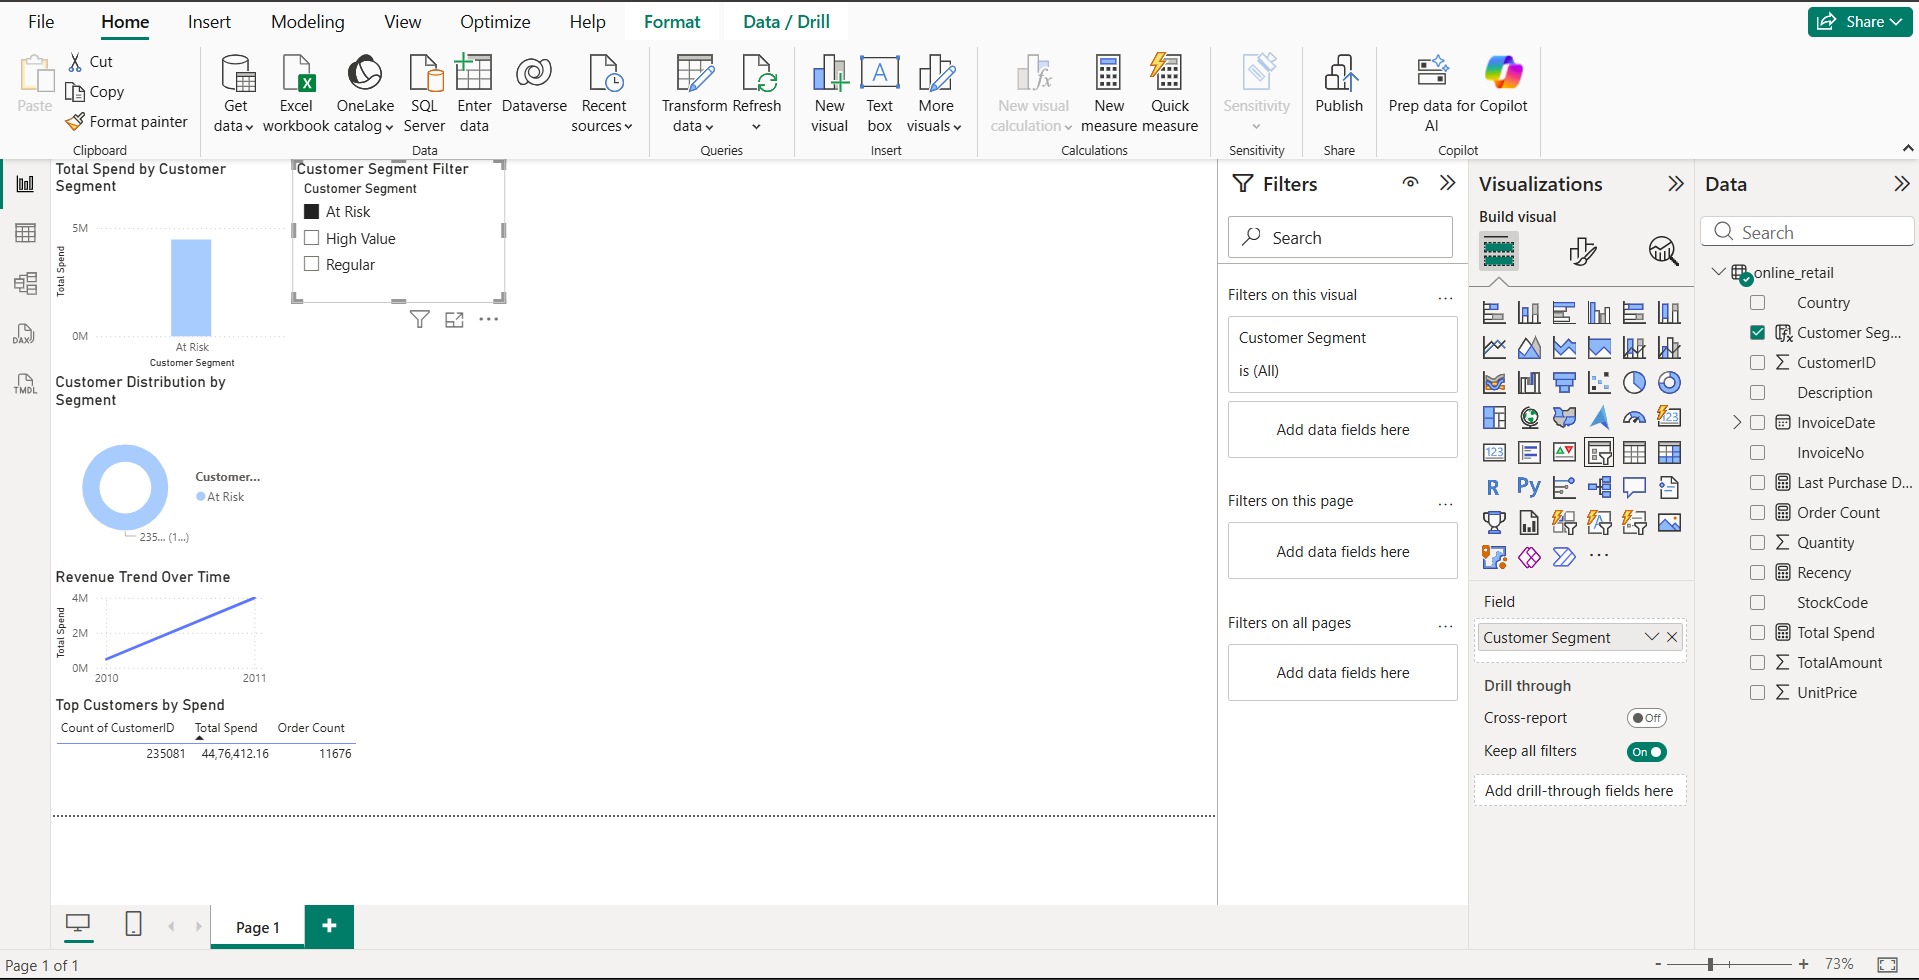

What the dashboard file says about the page in this screenshot:
{"tool":"powerbi","page":{"name":"Page 1","canvas":[1280,720],"ordinal":0},"visuals":[{"type":"clusteredColumnChart","title":"Total Spend by Customer Segment","fields":{"Category":["online_retail.Customer Segment"],"Y":["online_retail.Total Spend"]},"box":[0,0,264.8,234.6],"z":0},{"type":"donutChart","title":"Customer Distribution by Segment","fields":{"Category":["online_retail.Customer Segment"],"Y":["CountNonNull(online_retail.CustomerID)"]},"box":[0,234.6,241.5,214.1],"z":1},{"type":"lineChart","title":"Revenue Trend Over Time","fields":{"Category":["online_retail.InvoiceDate.Variation.Date Hierarchy.Year","online_retail.InvoiceDate.Variation.Date Hierarchy.Quarter","online_retail.InvoiceDate.Variation.Date Hierarchy.Month","online_retail.InvoiceDate.Variation.Date Hierarchy.Day"],"Y":["online_retail.Total Spend"]},"box":[0,448.7,241.5,140],"z":2},{"type":"tableEx","title":"Top Customers by Spend","fields":{"Values":["CountNonNull(online_retail.CustomerID)","online_retail.Total Spend","online_retail.Order Count"]},"box":[0,588.7,341.7,131.7],"z":3},{"type":"slicer","title":"Customer Segment Filter","fields":{"Values":["online_retail.Customer Segment"]},"box":[264.8,0,233.3,157.8],"z":4}]}

Visuals, with their boxes on the page's 1280x720 design canvas (x1, y1, x2, y2). These are canvas units, not pixel positions in the 1919x980 screenshot, which may show the page scaled, cropped or inside an application window:
"Total Spend by Customer Segment" clusteredColumnChart: 0, 0, 265, 235
"Customer Distribution by Segment" donutChart: 0, 235, 242, 449
"Revenue Trend Over Time" lineChart: 0, 449, 242, 589
"Top Customers by Spend" tableEx: 0, 589, 342, 720
"Customer Segment Filter" slicer: 265, 0, 498, 158
